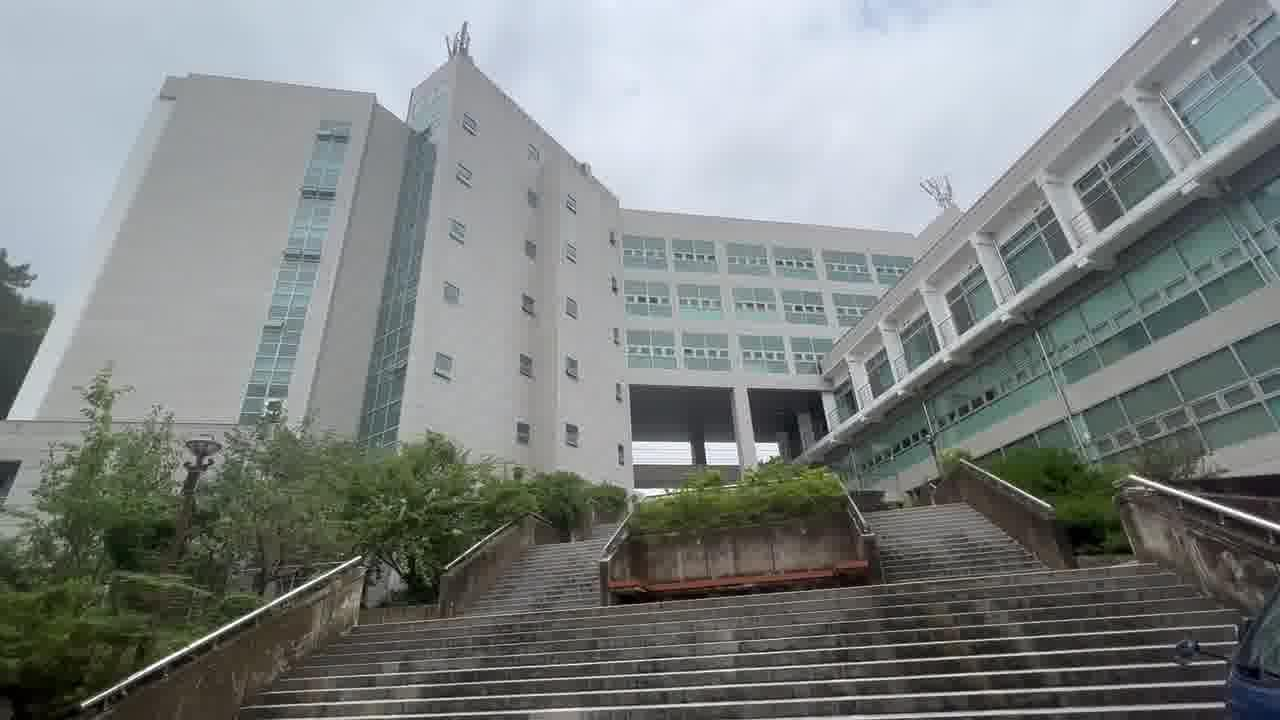building: (77, 44, 877, 419)
